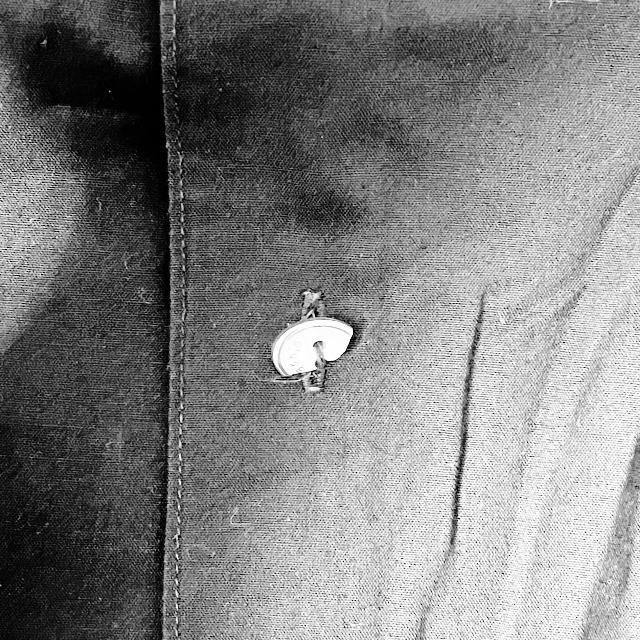Broken_button: (258, 295, 362, 390)
